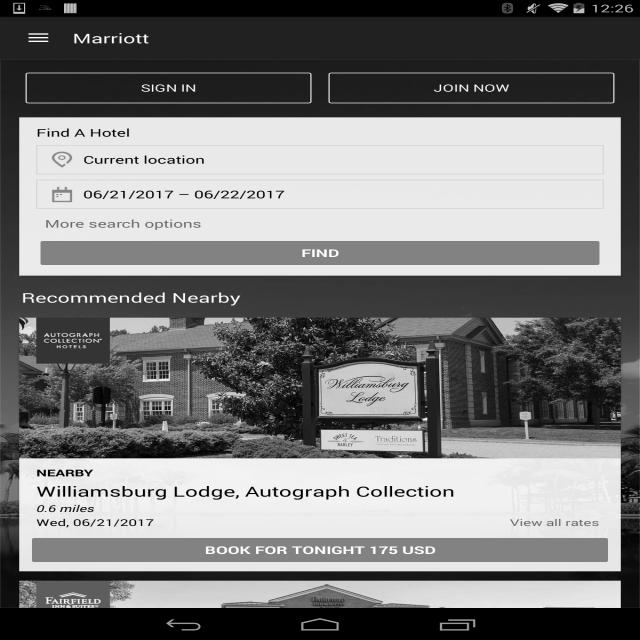Button: (28, 534, 612, 566), (36, 237, 604, 269), (26, 73, 312, 103), (328, 73, 614, 103), (36, 210, 211, 237)
EditText: (83, 152, 595, 167)
ImageButton: (9, 17, 68, 59)
ImageView: (0, 59, 640, 608), (19, 318, 621, 458), (19, 580, 620, 640), (36, 317, 110, 363), (36, 580, 110, 626), (45, 149, 79, 170), (45, 184, 79, 205)
TextView: (83, 184, 595, 205), (36, 125, 604, 140), (36, 482, 455, 501), (36, 502, 604, 515), (22, 288, 240, 306), (36, 516, 154, 529), (72, 29, 150, 47), (510, 516, 599, 529), (36, 466, 94, 479)
